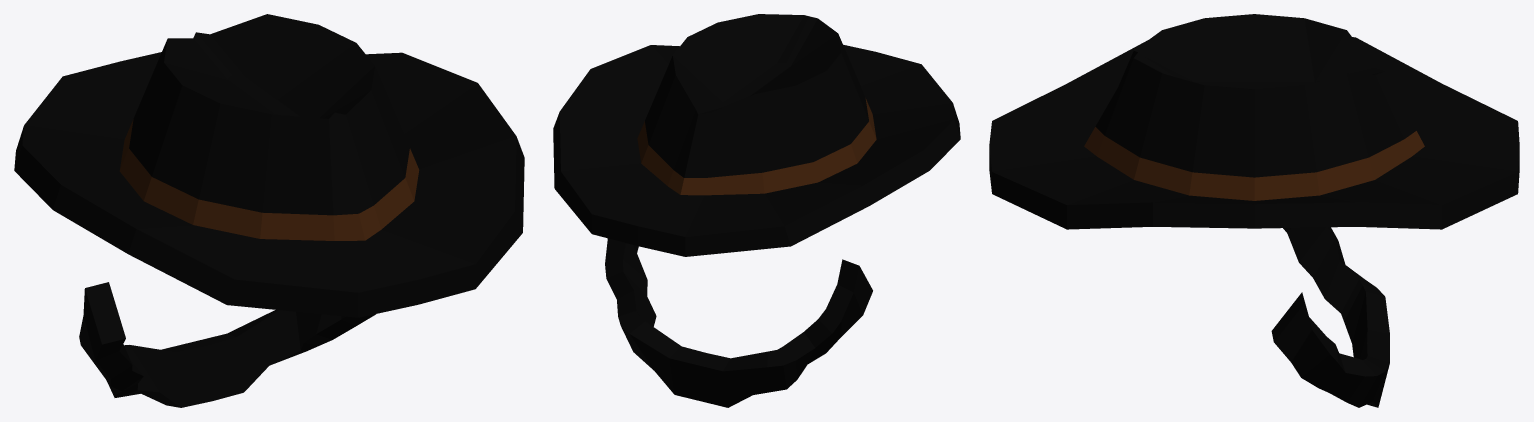
File: PersPartsPack2.fbx
3 renders of one model, left to right at view 1: azimuth 30°, elevation 25°; view 2: azimuth 150°, elevation 25°; view 3: azimuth 270°, elevation 25°, orthographic. The views are drawn at different scales.
Visible parts, largest first — view 1: Hat, Beard; view 2: Hat, Beard; view 3: Hat, Beard.
Part boxes in pixels (x1=…): Hat: x1=14, y1=14, x2=524, y2=317; Beard: x1=79, y1=282, x2=375, y2=407; Hat: x1=553, y1=14, x2=960, y2=256; Beard: x1=605, y1=238, x2=872, y2=407; Hat: x1=989, y1=14, x2=1519, y2=229; Beard: x1=1271, y1=227, x2=1389, y2=407.
Size of the model in its own units: 0.3354 by 0.2841 by 0.4.
